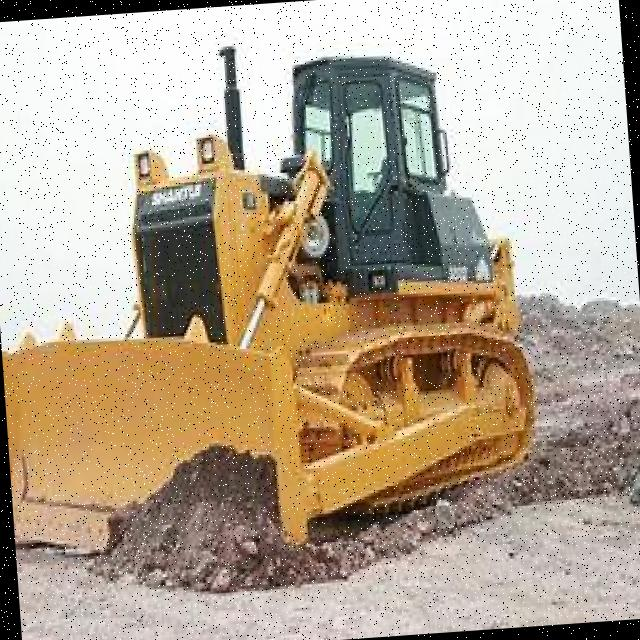Bulldozer: (0, 14, 555, 583)
